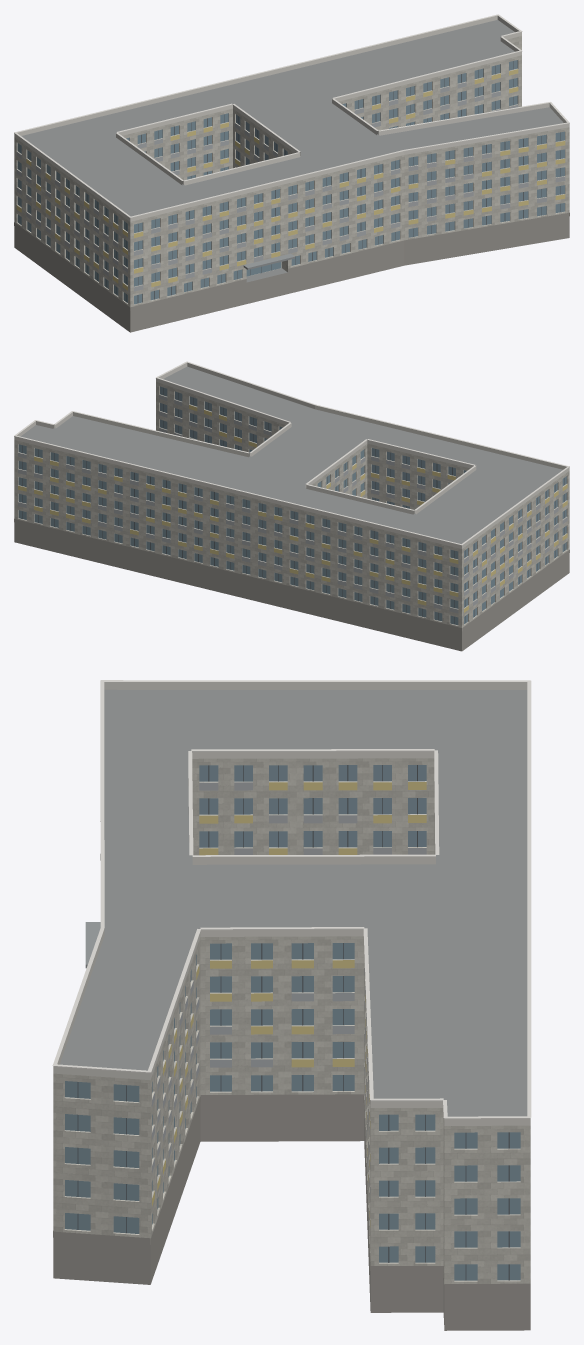
The picture shows the model from 3 angles, top to bottom: view 1: azimuth 30°, elevation 25°; view 2: azimuth 150°, elevation 25°; view 3: azimuth 270°, elevation 25°; orthographic projection. The views are drawn at different scales.
Visible parts, largest first — view 1: dorm2__wall, dorm2__roof, dorm2__glass, dorm2__base, dorm2__parapet, dorm2__panel1, dorm2__panel2, dorm2__trim, dorm2__frame; view 2: dorm2__wall, dorm2__roof, dorm2__glass, dorm2__base, dorm2__parapet, dorm2__panel1, dorm2__panel2, dorm2__trim, dorm2__frame; view 3: dorm2__roof, dorm2__wall, dorm2__glass, dorm2__base, dorm2__parapet, dorm2__trim, dorm2__panel1, dorm2__panel2, dorm2__frame.
Part boxes in pixels (x1,y1,x2,y2): dorm2__wall: (14, 36, 569, 310); dorm2__roof: (21, 20, 563, 282); dorm2__glass: (17, 60, 564, 304); dorm2__base: (14, 212, 569, 332); dorm2__parapet: (14, 15, 569, 221); dorm2__panel1: (16, 69, 565, 290); dorm2__panel2: (16, 82, 565, 291); dorm2__trim: (14, 14, 569, 218); dorm2__frame: (68, 61, 560, 303); dorm2__wall: (14, 382, 569, 630); dorm2__roof: (21, 366, 562, 543); dorm2__glass: (18, 386, 566, 625); dorm2__base: (14, 519, 569, 651); dorm2__parapet: (14, 362, 569, 548); dorm2__panel1: (18, 405, 567, 612); dorm2__panel2: (18, 395, 567, 613); dorm2__trim: (14, 361, 569, 545); dorm2__frame: (22, 388, 564, 624); dorm2__roof: (60, 689, 527, 1116); dorm2__wall: (53, 758, 530, 1284); dorm2__glass: (65, 765, 520, 1280); dorm2__base: (53, 854, 530, 1330); dorm2__parapet: (53, 682, 530, 1125); dorm2__trim: (52, 680, 531, 1119); dorm2__panel1: (152, 782, 426, 1227); dorm2__panel2: (152, 782, 426, 1200); dorm2__frame: (77, 765, 509, 1280).
Size of the model in its own units: 94.05 by 21.3 by 43.42.
11 materials, 1 textured.
